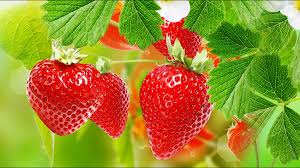ripe: (136, 62, 218, 164), (25, 55, 102, 140), (83, 59, 131, 144), (146, 14, 211, 60), (95, 5, 142, 54), (224, 117, 265, 155)
